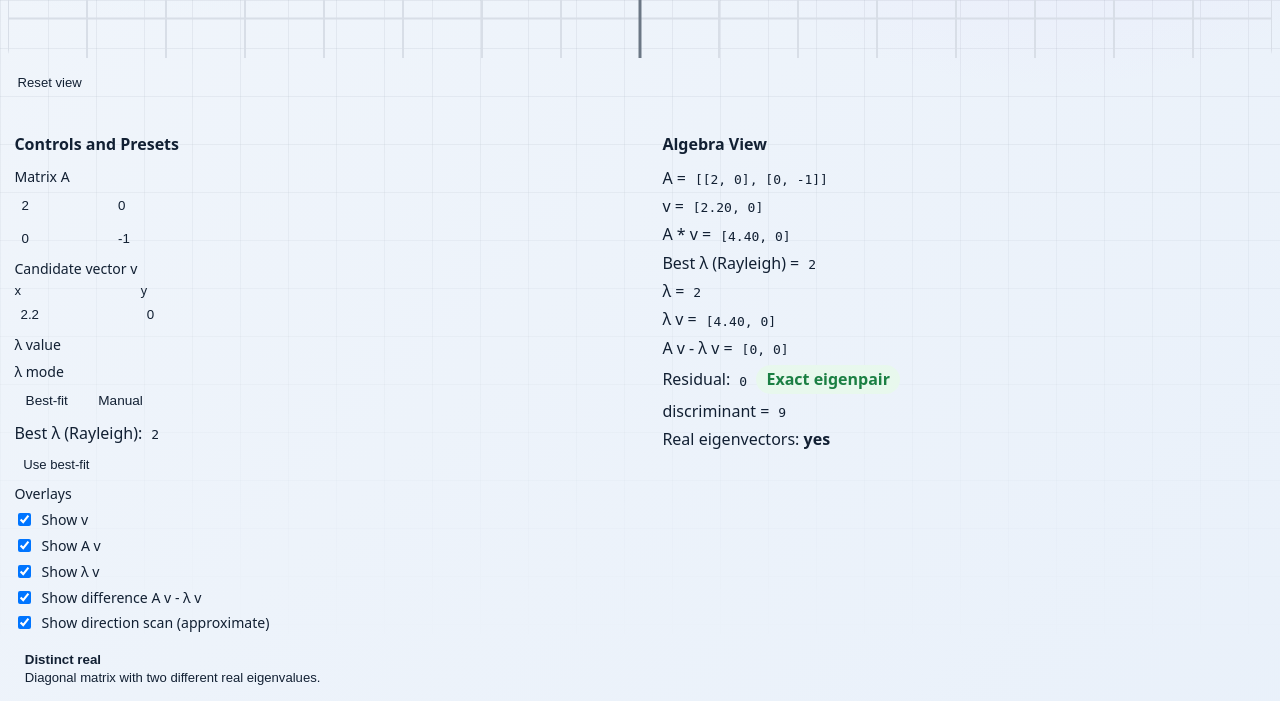
Test: EigenModule › switches lambda mode to manual and shows manual input
The width and height of the screenshot is (1280, 701).
(page scrolled)
Click the button "Manual" at [121, 401], box [87,388,154,414]
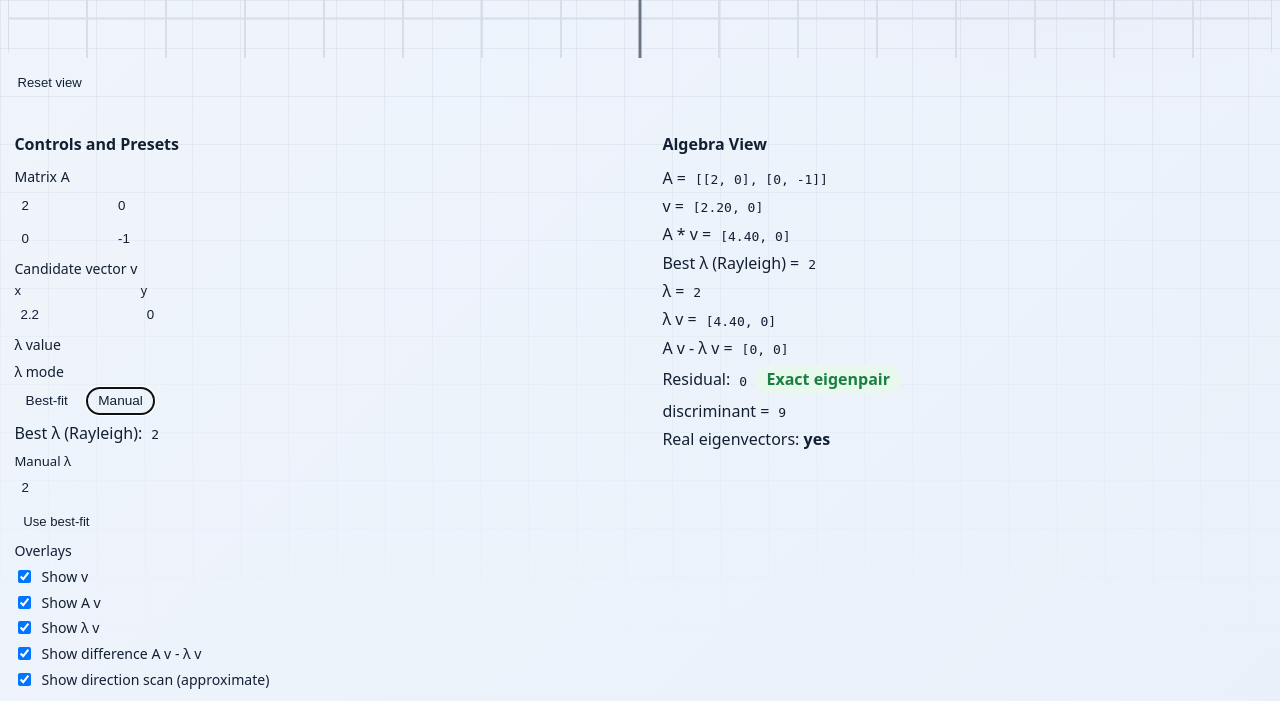
Expected: the number field labelled "Manual λ" is shown, [14,474,618,501]
